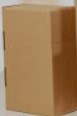stock: (3, 3, 77, 114)
